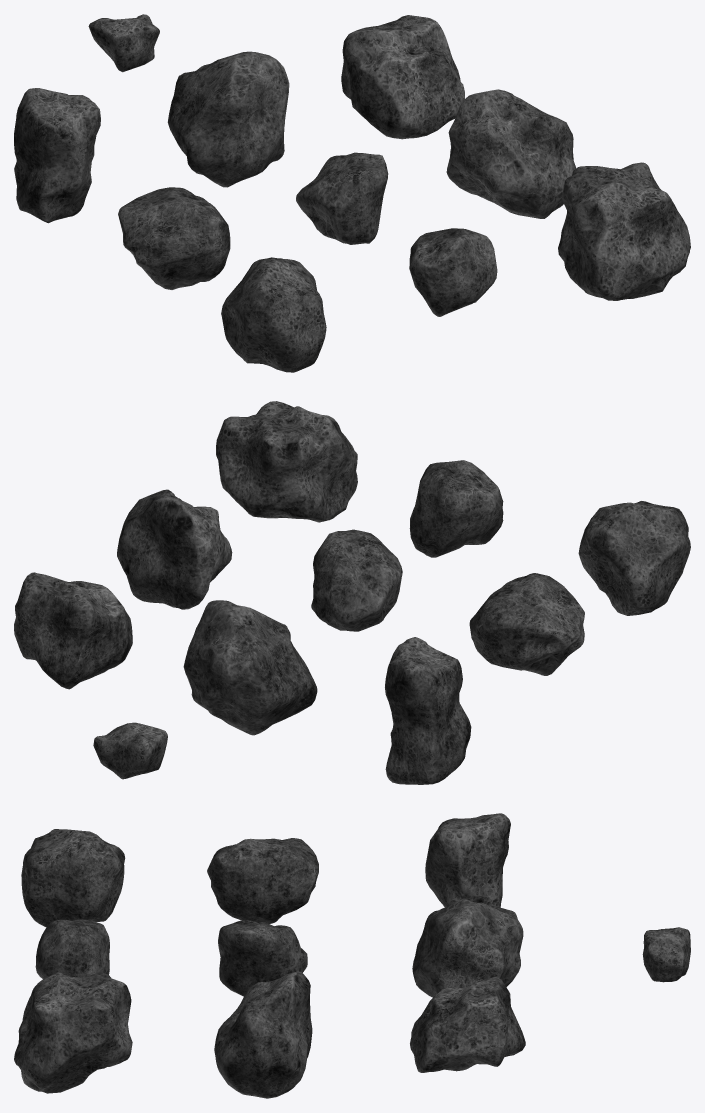
The model's file is asteroids.glb.
The picture shows the model from 3 angles, top to bottom: view 1: azimuth 30°, elevation 25°; view 2: azimuth 150°, elevation 25°; view 3: azimuth 270°, elevation 25°; orthographic projection. The views are drawn at different scales.
Visible parts, largest first — view 1: Asteroid_no_1_Material #3_0; view 2: Asteroid_no_1_Material #3_0; view 3: Asteroid_no_1_Material #3_0.
Boxes of the visible parts, left/top/right/bottom form: Asteroid_no_1_Material #3_0: left=14, top=14, right=690, bottom=372; Asteroid_no_1_Material #3_0: left=14, top=401, right=690, bottom=784; Asteroid_no_1_Material #3_0: left=14, top=813, right=690, bottom=1098.
Bounding box in the file's own units: 5.11 × 1.35 × 7.17.
1 material, 1 textured.
